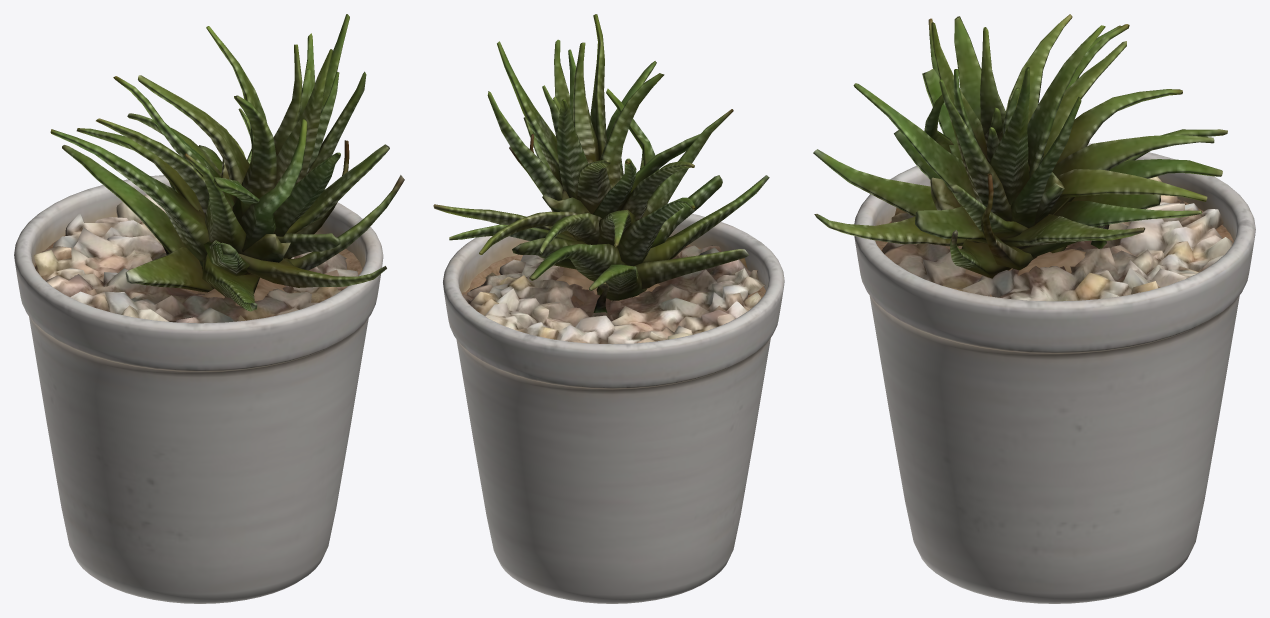
File: potted-plant.glb
3 views of the same model, side by side, from view 1: azimuth 30°, elevation 25°; view 2: azimuth 150°, elevation 25°; view 3: azimuth 270°, elevation 25° (orthographic). The views are drawn at different scales.
Visible parts, largest first — view 1: potted_plant_04_pot, potted_plant_04_plant, potted_plant_04_ground, potted_plant_04_dirt; view 2: potted_plant_04_pot, potted_plant_04_plant, potted_plant_04_ground, potted_plant_04_dirt; view 3: potted_plant_04_pot, potted_plant_04_plant, potted_plant_04_ground, potted_plant_04_dirt.
Boxes of the visible parts, x1,y1,x2,y2 form: potted_plant_04_pot: (14,175,383,603); potted_plant_04_plant: (50,14,404,311); potted_plant_04_ground: (34,194,358,323); potted_plant_04_dirt: (34,217,362,305); potted_plant_04_pot: (443,211,784,603); potted_plant_04_plant: (433,14,769,313); potted_plant_04_ground: (462,245,765,344); potted_plant_04_dirt: (461,245,765,305); potted_plant_04_pot: (854,143,1255,603); potted_plant_04_plant: (813,14,1227,278); potted_plant_04_ground: (882,176,1232,301); potted_plant_04_dirt: (875,199,1233,296).
Bounding box in the file's own units: 0.17 × 0.27 × 0.19.
Materials: 1 (1 with a texture image).
